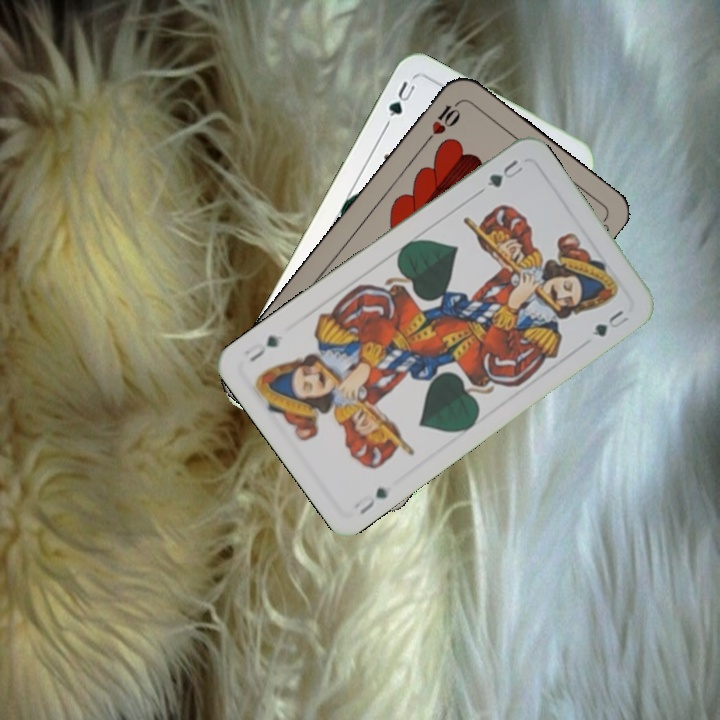GU: (384, 77, 418, 122), (483, 155, 526, 190), (355, 483, 391, 517)
H10: (420, 97, 464, 147)
